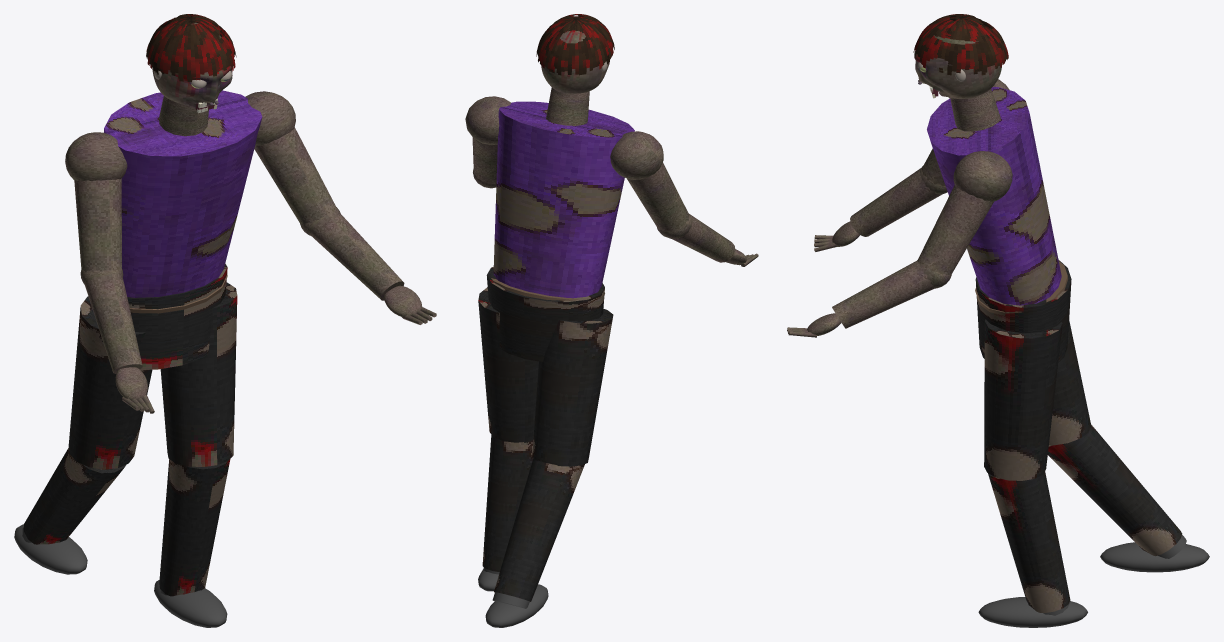
The model's file is Zombie_022.glb.
3 renders of one model, left to right at view 1: azimuth 30°, elevation 25°; view 2: azimuth 150°, elevation 25°; view 3: azimuth 270°, elevation 25°, orthographic. The views are drawn at different scales.
Parts seen in each view (by area): view 1: Zombie_022, object 41, object 3, object 10, object 16, object 4, object 11; view 2: Zombie_022, object 41, object 16, object 3; view 3: Zombie_022, object 41, object 10, object 3, object 16.
Boxes of the visible parts, box(x1,y1,x2,y2) form: Zombie_022: box(14, 90, 336, 627); object 41: box(146, 14, 236, 79); object 3: box(84, 274, 142, 373); object 10: box(309, 212, 404, 300); object 16: box(152, 22, 232, 108); object 4: box(115, 367, 147, 400); object 11: box(384, 285, 422, 316); Zombie_022: box(465, 87, 689, 627); object 41: box(536, 14, 614, 73); object 16: box(541, 30, 609, 93); object 3: box(672, 214, 735, 262); Zombie_022: box(917, 79, 1209, 627); object 41: box(913, 14, 1008, 72); object 10: box(832, 261, 934, 328); object 3: box(850, 168, 941, 236); object 16: box(914, 35, 1002, 98).
Bounding box in the file's own units: 0.7864 × 1.65 × 1.07.
16 materials, 6 textured.
